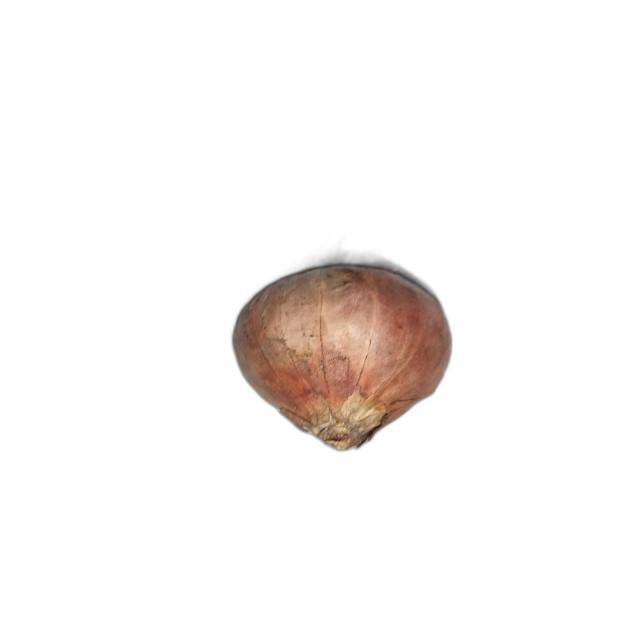onion: (230, 263, 454, 452)
